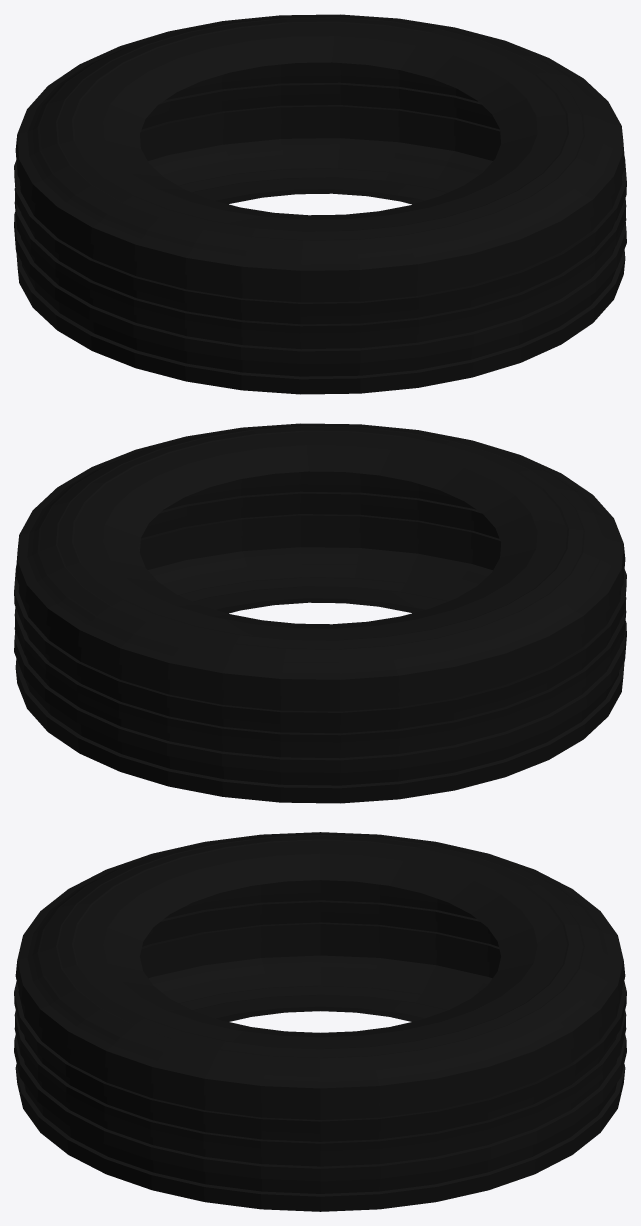
File: CityBusTire.obj
3 views of the same model, one above another, from view 1: azimuth 30°, elevation 25°; view 2: azimuth 150°, elevation 25°; view 3: azimuth 270°, elevation 25° (orthographic).
Parts seen in each view (by area): view 1: Bus_Tire_0418; view 2: Bus_Tire_0418; view 3: Bus_Tire_0418.
Boxes of the visible parts, left/top/right/bottom form: Bus_Tire_0418: left=14, top=14, right=626, bottom=394; Bus_Tire_0418: left=14, top=423, right=626, bottom=803; Bus_Tire_0418: left=14, top=832, right=626, bottom=1211.
Bounding box in the file's own units: 1.05 × 0.2944 × 1.05.
1 material, 1 textured.
